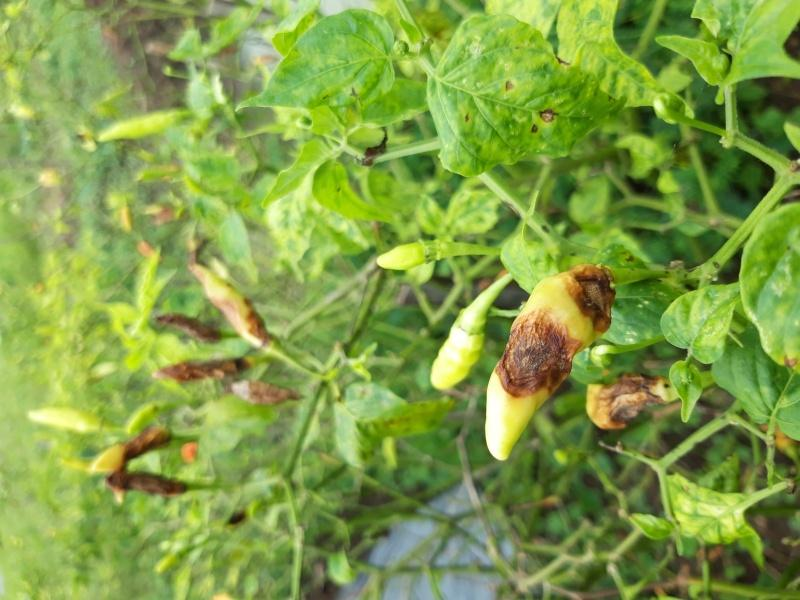antraknosa: (486, 264, 613, 460), (189, 265, 267, 352), (584, 373, 665, 431), (90, 424, 171, 471), (150, 358, 244, 385), (153, 312, 225, 344), (104, 469, 190, 495)
cabai_normal: (428, 325, 483, 393), (376, 241, 430, 271)
